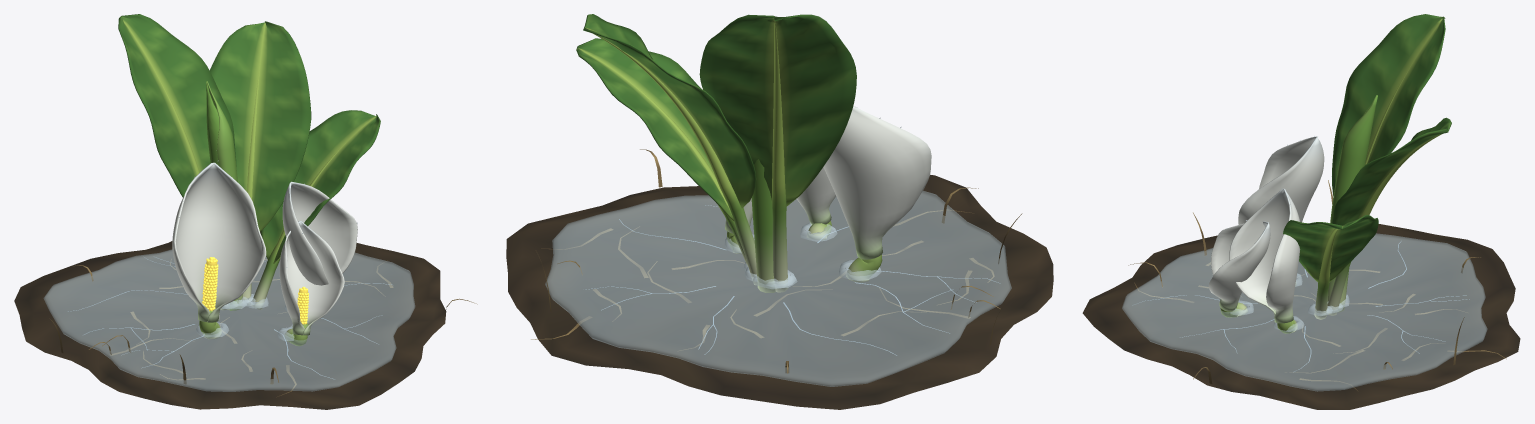
The model's file is f2_ice_mizubasho.glb.
3 views of the same model, side by side, from view 1: azimuth 30°, elevation 25°; view 2: azimuth 150°, elevation 25°; view 3: azimuth 270°, elevation 25° (orthographic). The views are drawn at different scales.
Visible parts, largest first — view 1: f2_ice_mizubasho; view 2: f2_ice_mizubasho; view 3: f2_ice_mizubasho.
Part boxes in pixels (<box>): f2_ice_mizubasho: <box>14,14,477,409</box>; f2_ice_mizubasho: <box>506,14,1053,409</box>; f2_ice_mizubasho: <box>1082,14,1520,409</box>.
Size of the model in its own units: 0.5095 by 0.3415 by 0.5033.
